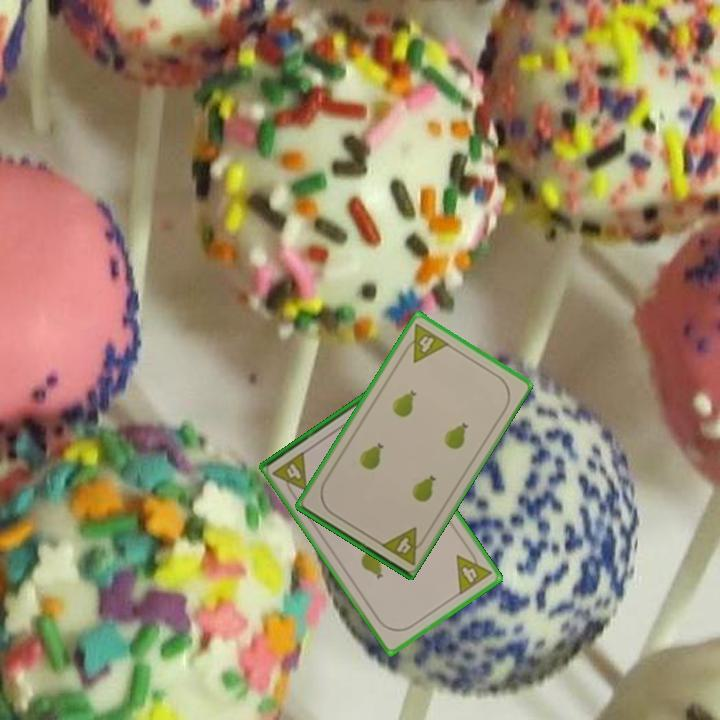4p: (398, 320, 452, 365), (376, 523, 430, 568), (453, 544, 495, 598), (269, 448, 311, 500)
